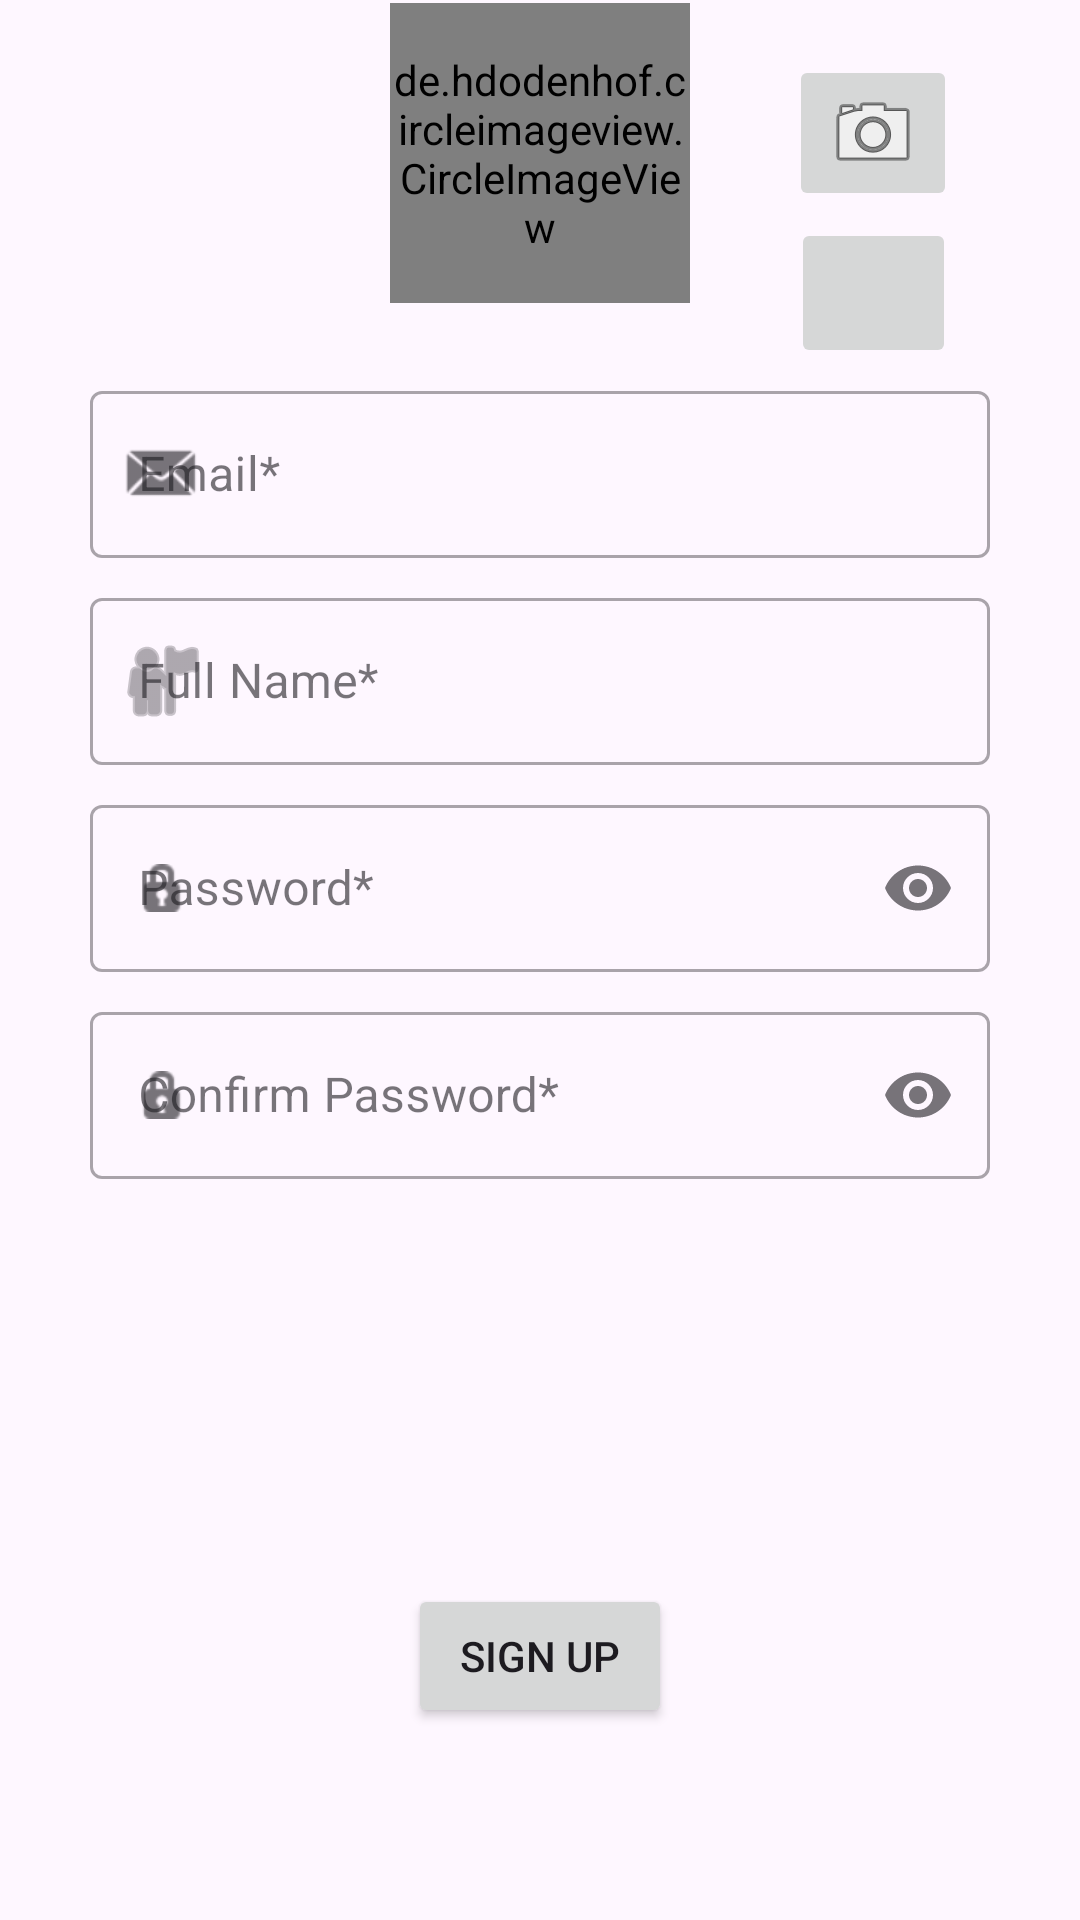

Where icons sit on this 1080 × 1920 app screen, as (x1=x1, y1=y1, x2=x2, y2=y2):
Take photo: (x1=801, y1=73, x2=945, y2=193)
